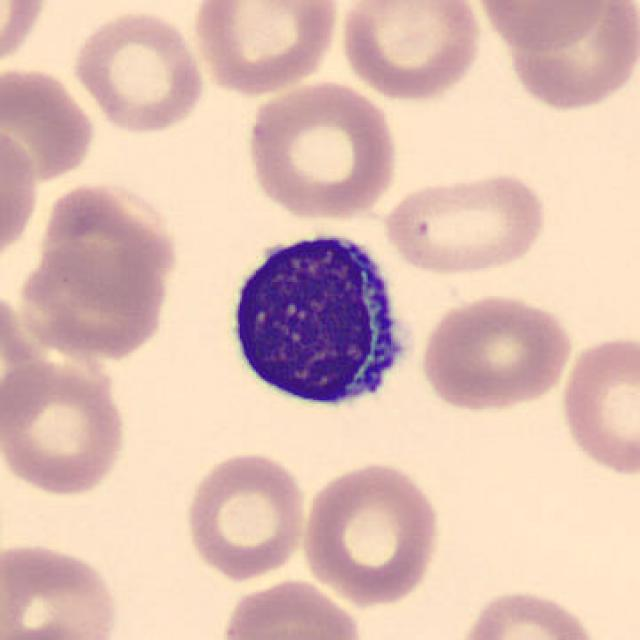Lymphocyte: (215, 217, 421, 423)
RBC: (242, 76, 402, 222), (297, 458, 444, 608), (14, 235, 174, 363), (34, 178, 181, 314), (416, 291, 576, 414), (379, 165, 551, 278), (0, 354, 132, 499), (68, 5, 208, 136), (182, 448, 310, 582), (497, 0, 638, 116), (336, 0, 485, 104), (187, 0, 341, 97), (0, 536, 124, 640), (0, 62, 100, 185), (556, 330, 638, 480), (216, 576, 366, 640), (452, 585, 604, 640), (471, 0, 612, 55), (0, 120, 43, 270), (0, 0, 50, 74)
